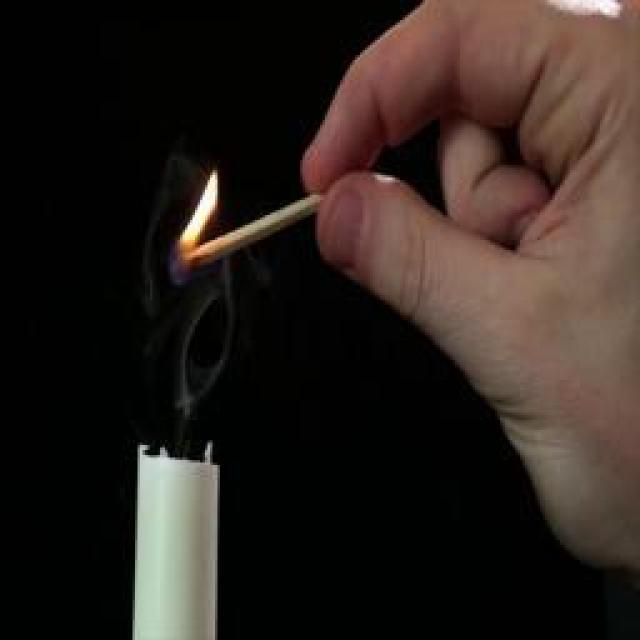Fire: (179, 171, 219, 244)
